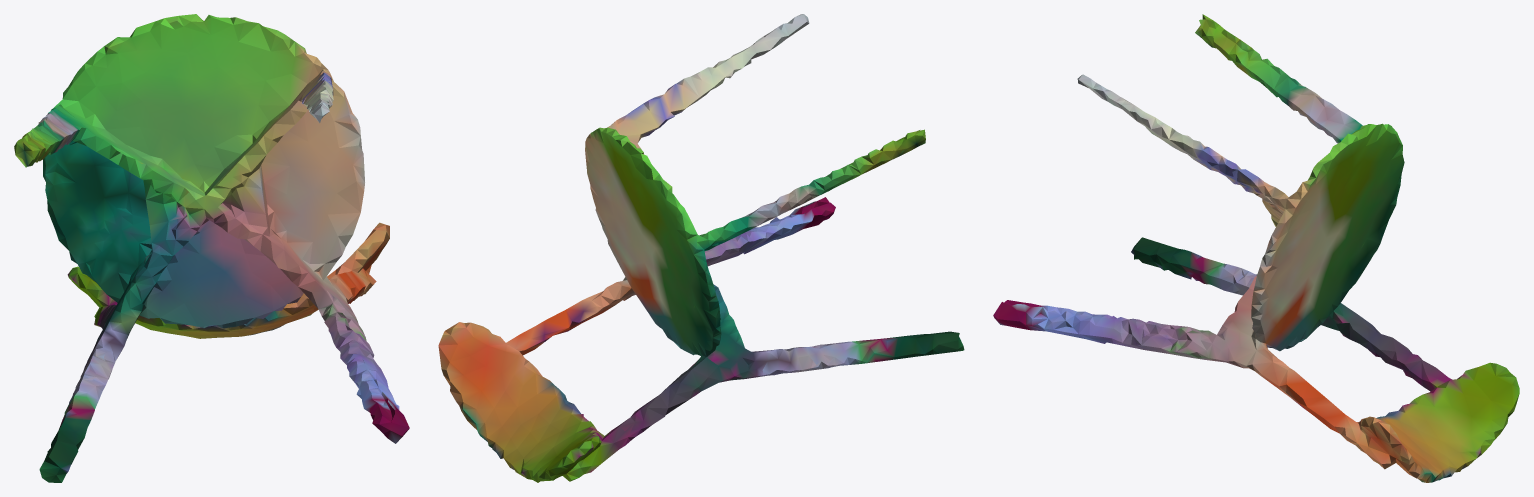
The model's file is corr_chair_partfield.glb.
The picture shows the model from 3 angles, left to right: view 1: azimuth 30°, elevation 25°; view 2: azimuth 150°, elevation 25°; view 3: azimuth 270°, elevation 25°; orthographic projection. The views are drawn at different scales.
Visible parts, largest first — view 1: world; view 2: world; view 3: world.
Part boxes in pixels (x1,y1,x2,y2): world: (14, 14, 409, 482); world: (438, 14, 964, 482); world: (993, 14, 1519, 482).
Bounding box in the file's own units: 1.51 × 1.25 × 1.72.
